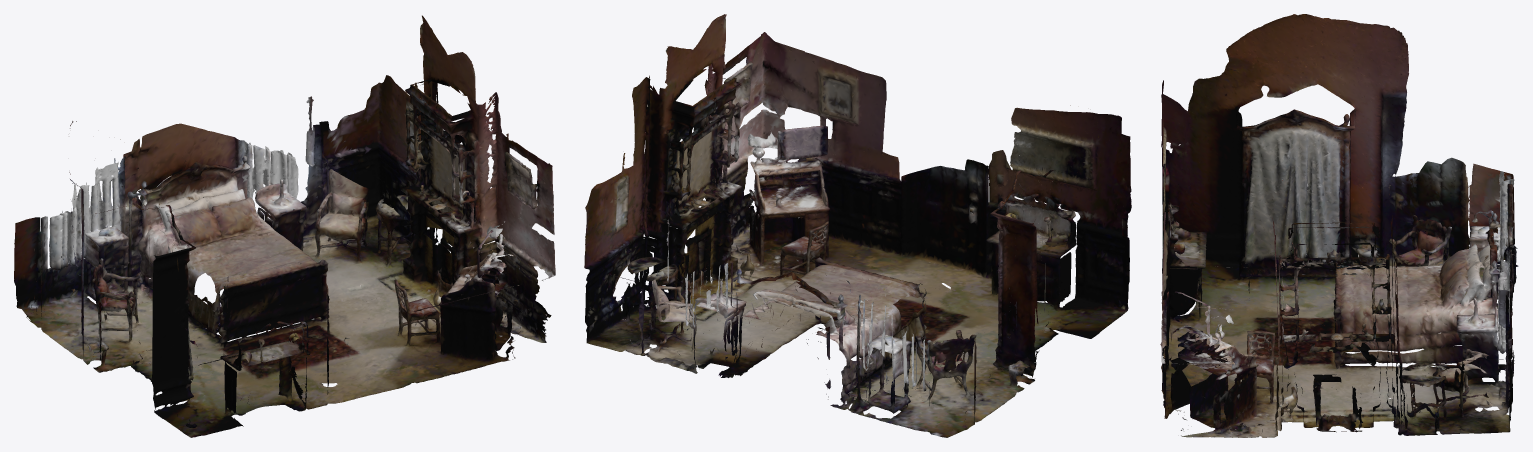
Rendered from scan.glb.
3 views of the same model, side by side, from view 1: azimuth 30°, elevation 25°; view 2: azimuth 150°, elevation 25°; view 3: azimuth 270°, elevation 25° (orthographic).
Visible parts, largest first — view 1: geometry_0; view 2: geometry_0; view 3: geometry_0.
Part boxes in pixels (box(x1,y1,x2,y2)): geometry_0: box(14, 15, 555, 437); geometry_0: box(584, 14, 1131, 437); geometry_0: box(1160, 14, 1518, 437).
Bounding box in the file's own units: 5.69 × 3.85 × 4.81.
